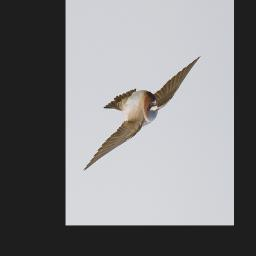Swallow: (82, 57, 201, 175)
